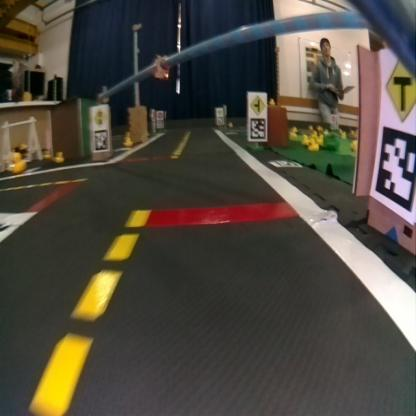Duckie: (12, 152, 26, 172), (53, 151, 64, 162), (123, 136, 132, 146), (308, 141, 316, 150), (302, 134, 308, 144), (350, 141, 357, 148)
Intersection sign: (385, 52, 414, 121), (249, 94, 266, 116)
QR code: (375, 126, 415, 210), (90, 129, 110, 152), (249, 116, 266, 141), (217, 116, 223, 124)
Signal sign: (90, 106, 108, 127)
Traffic light: (154, 54, 168, 80)
